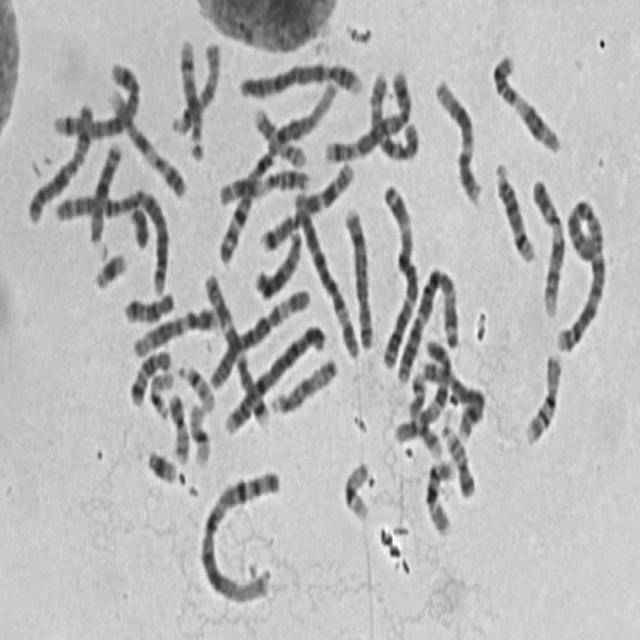A1: (215, 68, 343, 268), (194, 462, 282, 609)
A2: (50, 183, 173, 297), (553, 192, 609, 356)
A3: (377, 175, 422, 373), (391, 261, 461, 386)
B4: (219, 318, 329, 438), (234, 55, 366, 102)
B5: (321, 66, 414, 164), (48, 55, 144, 141)
C10: (390, 332, 454, 449), (365, 64, 421, 164)
C11: (487, 47, 564, 157), (217, 161, 313, 207)
C12: (431, 72, 484, 207), (129, 301, 220, 360)
C6: (292, 187, 362, 361), (205, 280, 312, 391)
C7: (198, 264, 270, 428), (257, 154, 356, 256)
C8: (418, 353, 487, 442), (340, 200, 377, 354)
C9: (105, 82, 187, 200), (528, 173, 566, 319)
D13: (86, 135, 125, 246), (250, 223, 304, 301)
D14: (491, 156, 537, 266), (174, 30, 207, 162)
D15: (167, 34, 223, 137), (266, 351, 340, 416)
E16: (520, 347, 565, 448), (421, 453, 458, 538)
E17: (248, 101, 308, 170), (406, 368, 444, 460)
E18: (127, 344, 173, 408), (121, 285, 177, 326)
F19: (339, 454, 373, 524), (186, 396, 213, 468)
F20: (439, 423, 476, 500), (164, 387, 190, 466)
G21: (90, 245, 129, 293), (143, 442, 180, 487)
G22: (176, 357, 218, 415), (145, 364, 175, 423)
X: (23, 96, 96, 227)
Y: (127, 202, 151, 250)
